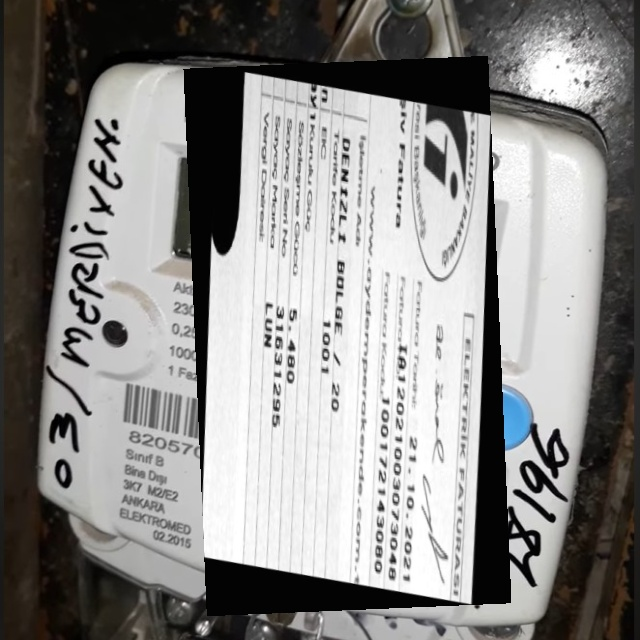electricity-bill: (182, 56, 510, 616)
